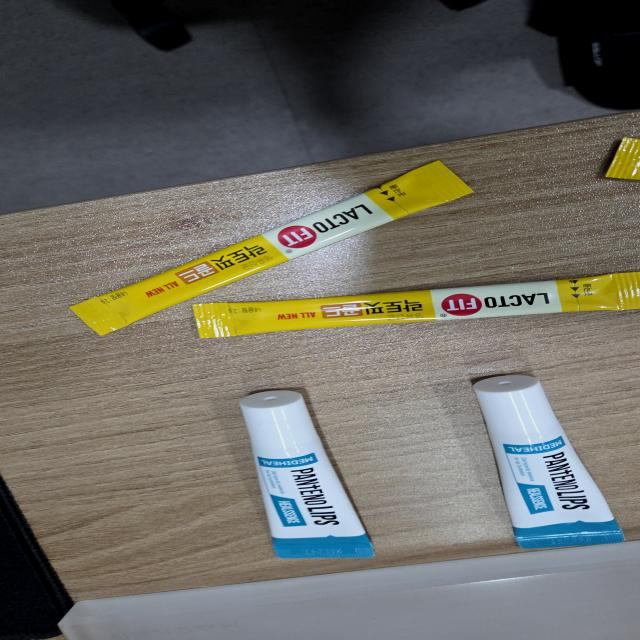lacto: (62, 156, 472, 337), (192, 266, 640, 342), (599, 132, 640, 192)
lib: (462, 371, 629, 548), (229, 387, 377, 562)
